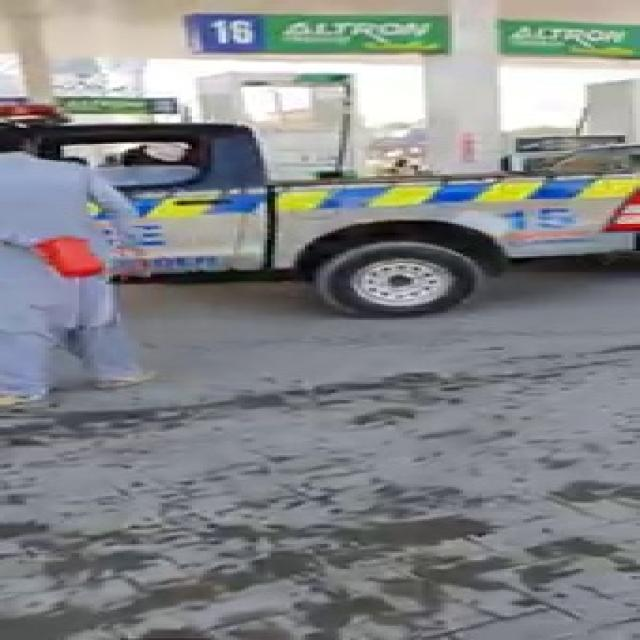police: (0, 94, 640, 286)
